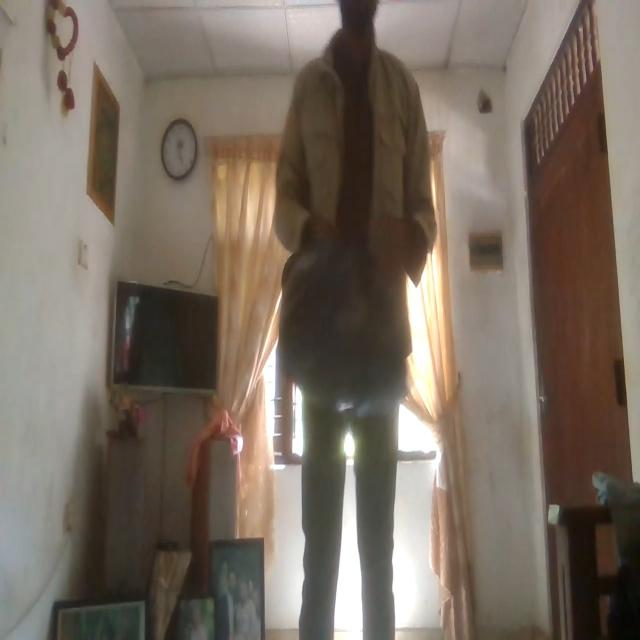Jacket_Wearer: (277, 32, 437, 424)
Person: (261, 1, 437, 640)
